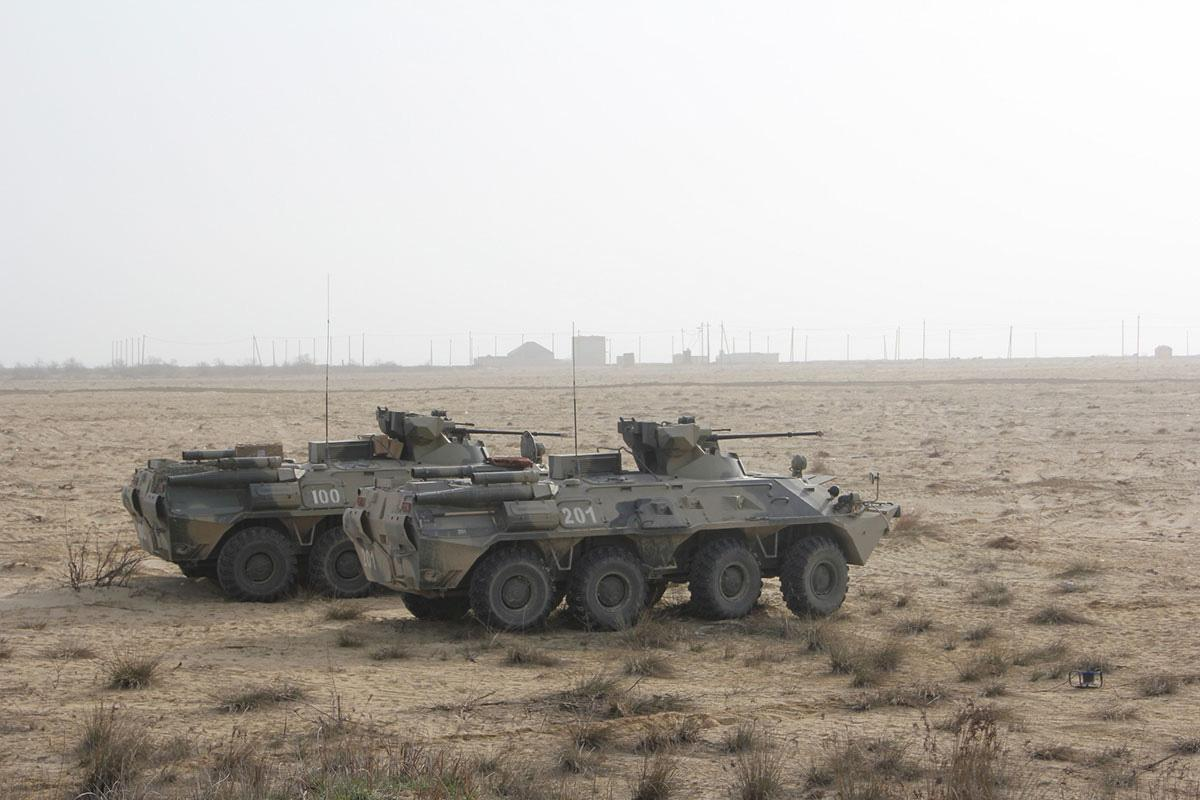tank: (342, 406, 901, 632), (122, 406, 570, 603)
